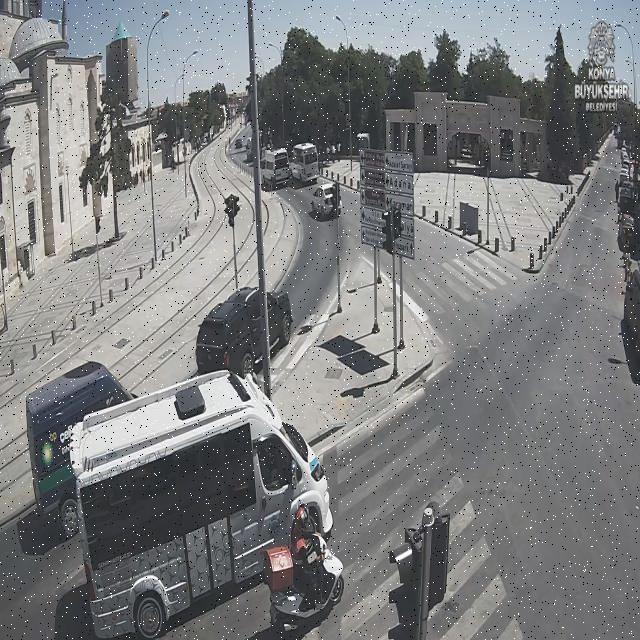car: (196, 288, 262, 376), (268, 292, 292, 353), (311, 182, 342, 219)
minivan: (70, 371, 329, 638), (26, 362, 132, 512), (261, 149, 292, 189), (290, 142, 319, 183)
motorcyclist: (265, 505, 344, 631)
traffic-lights: (390, 506, 450, 639), (382, 208, 401, 252), (224, 194, 240, 226)
